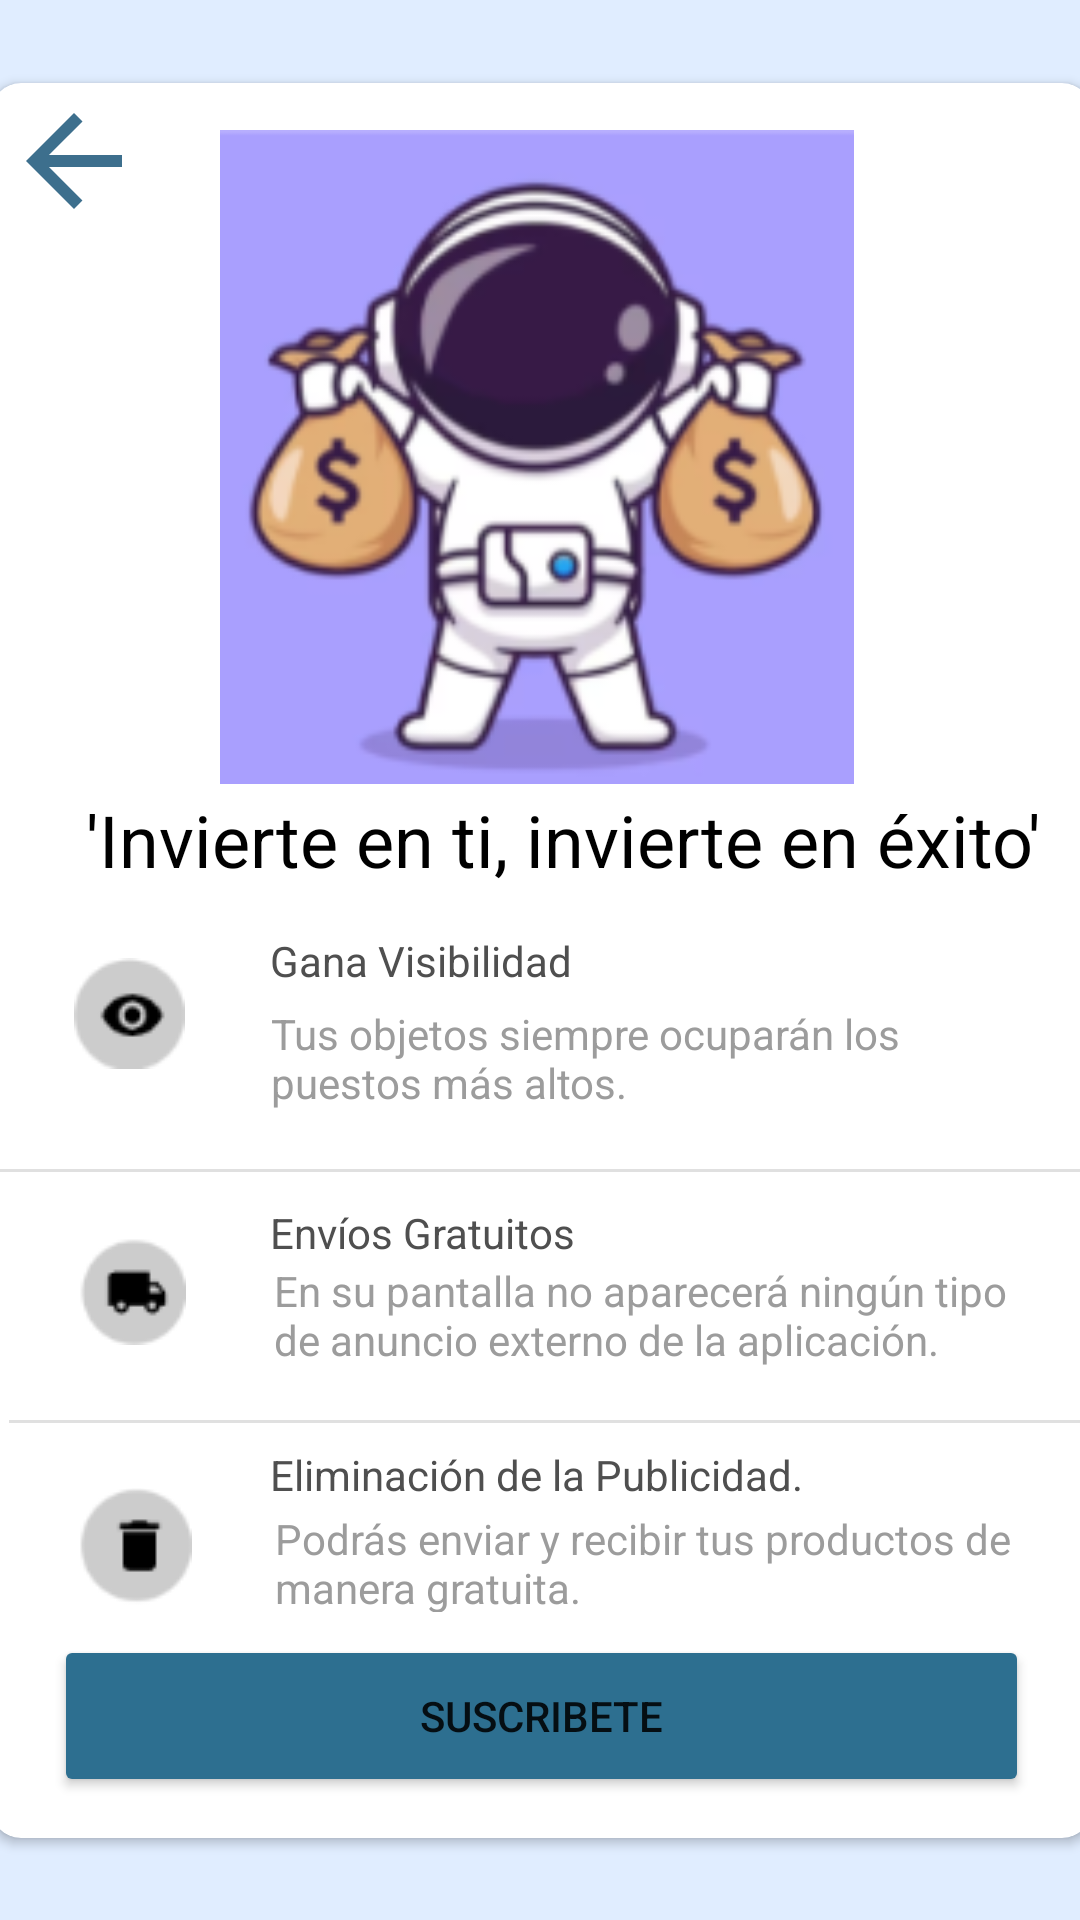

Where icons sit on this 1080px×1920px app screen, as (x1, y1, x2, y2):
arrow back: (26, 113, 122, 209)
ojo: (74, 960, 185, 1069)
papelera: (81, 1490, 192, 1601)
truck: (82, 1241, 186, 1345)
